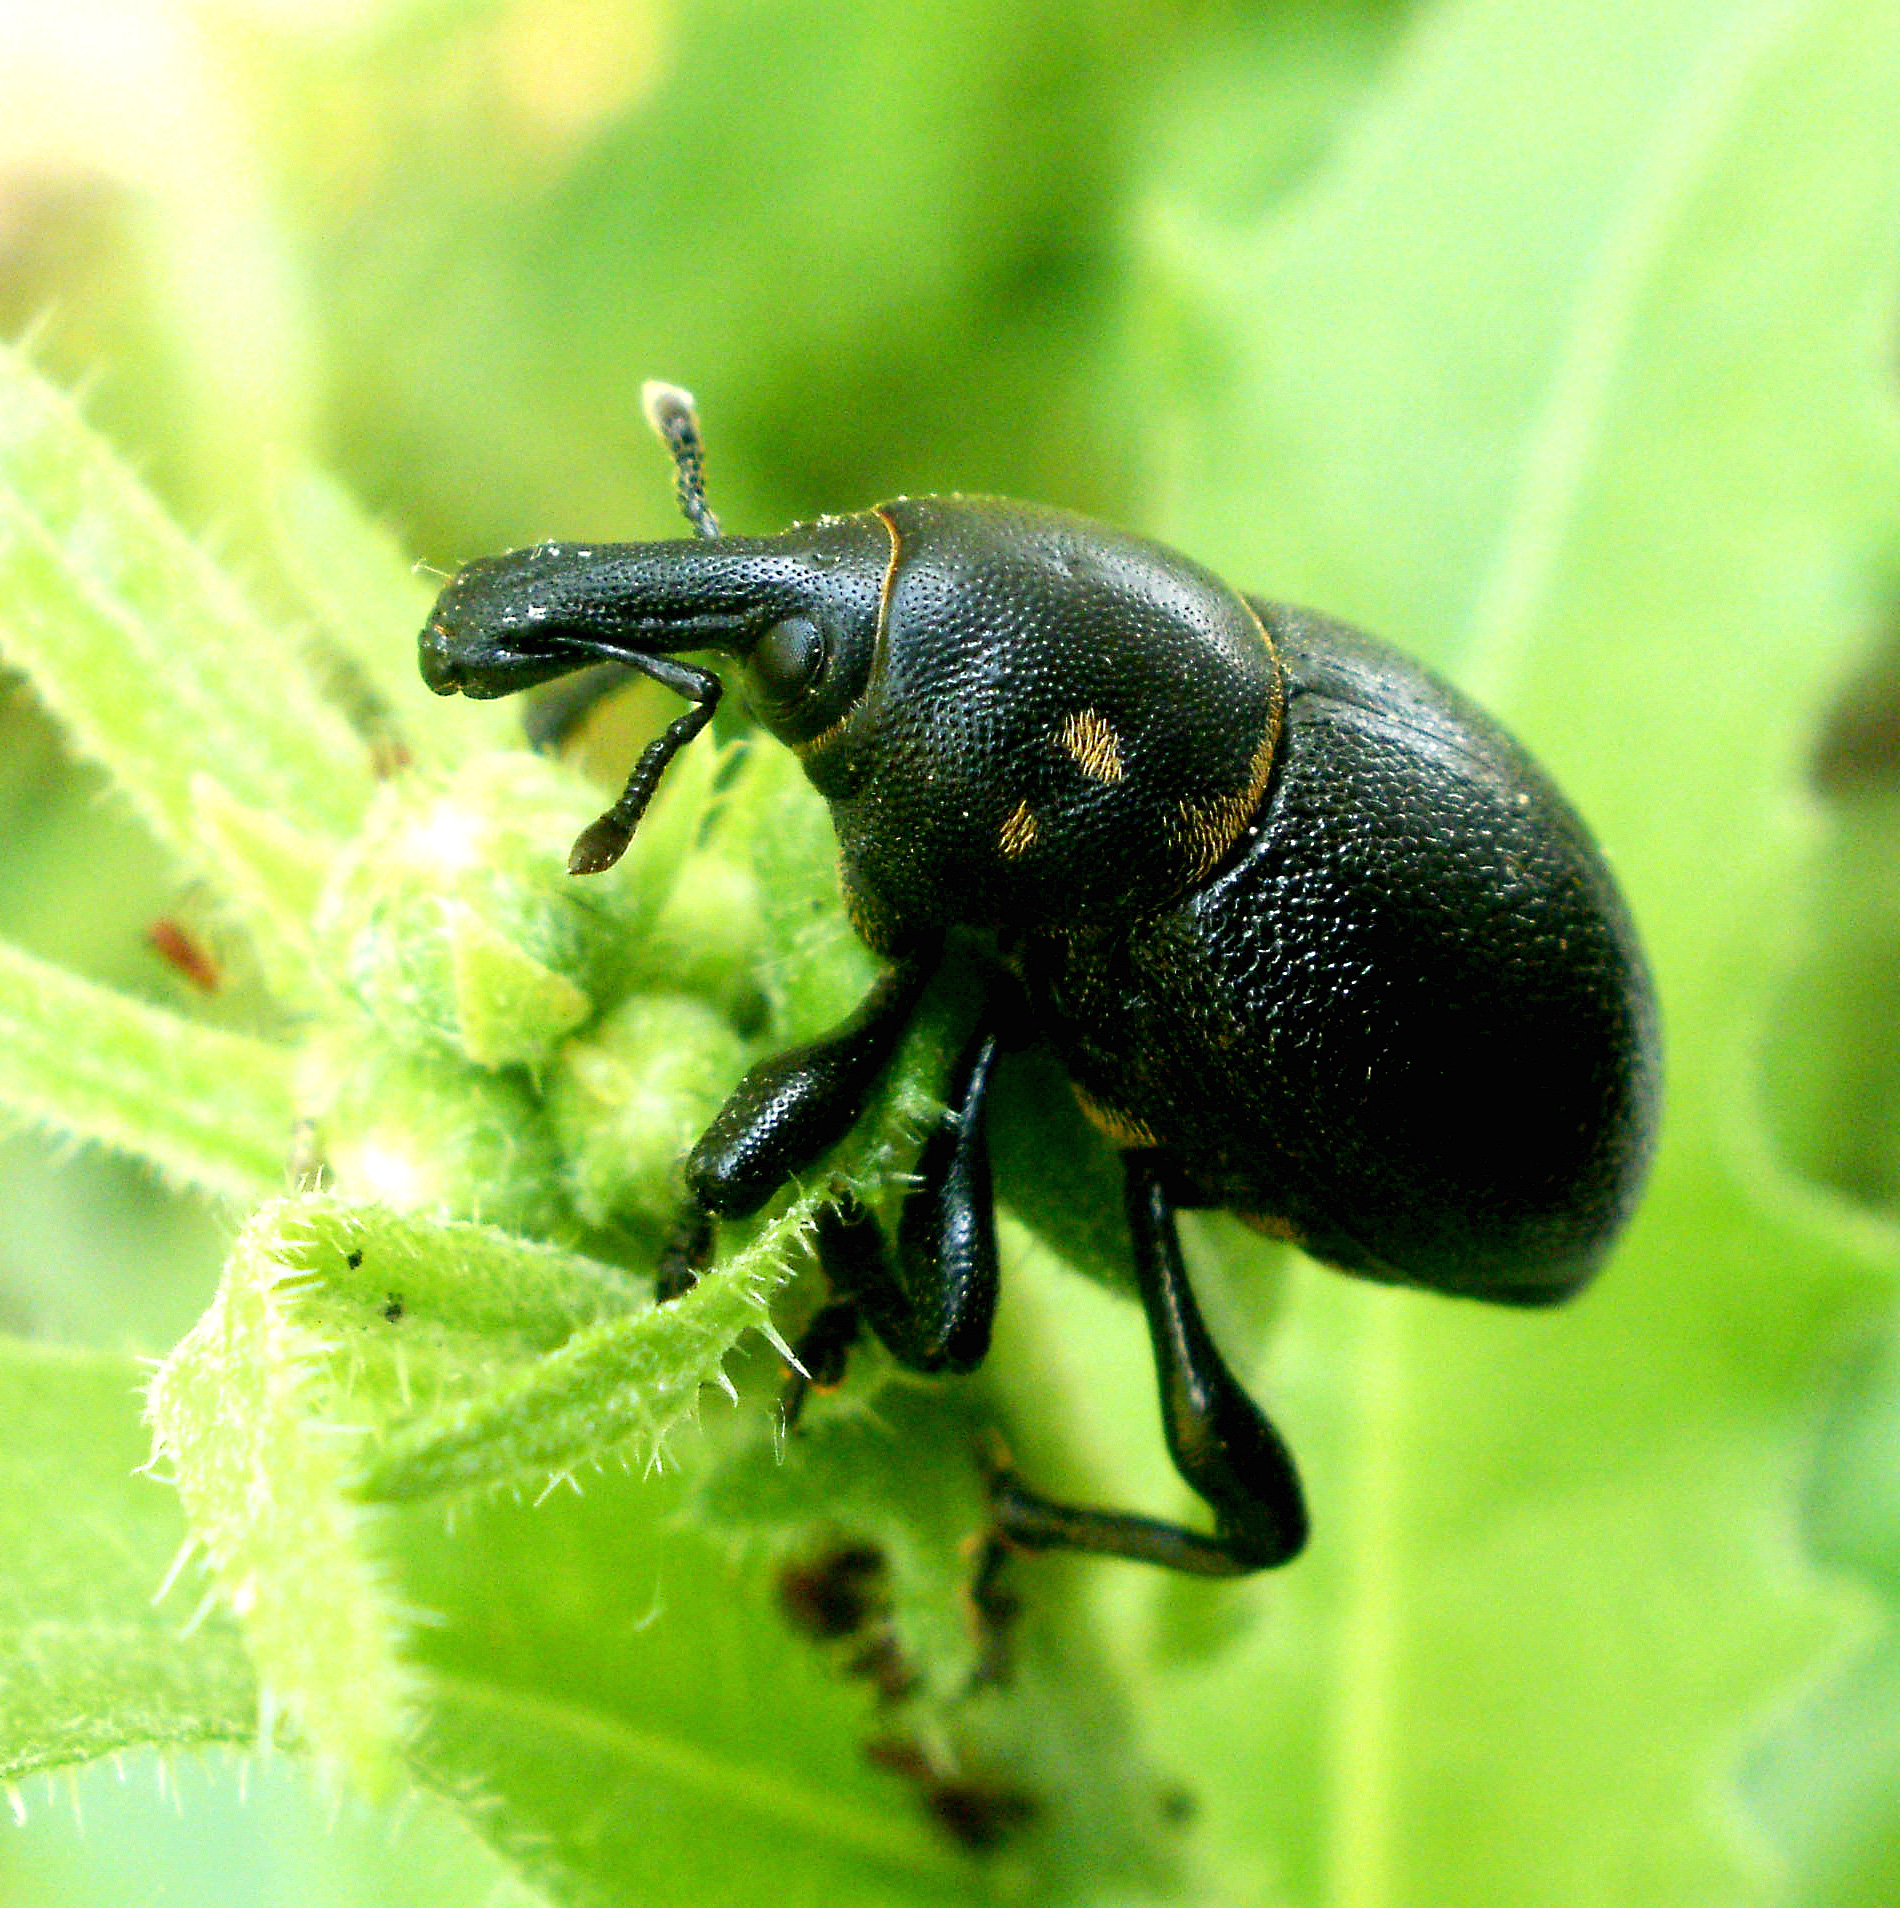dolgonosik: (426, 381, 1676, 1609)
